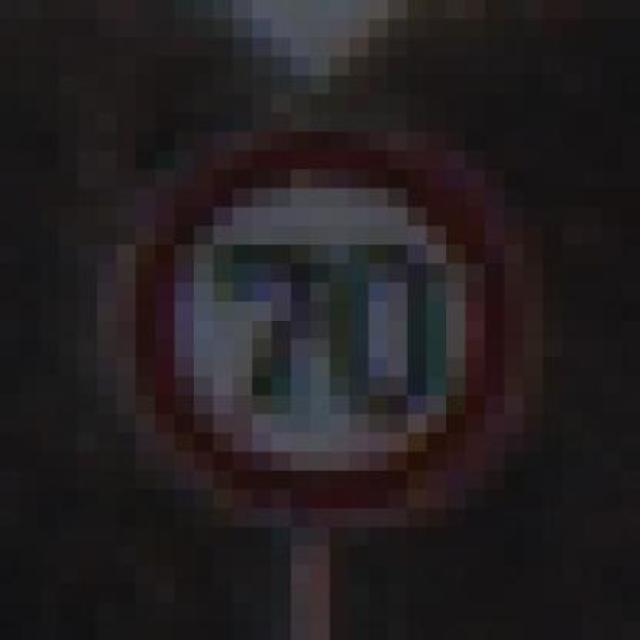forb_speed_over_70: (138, 136, 519, 512)
